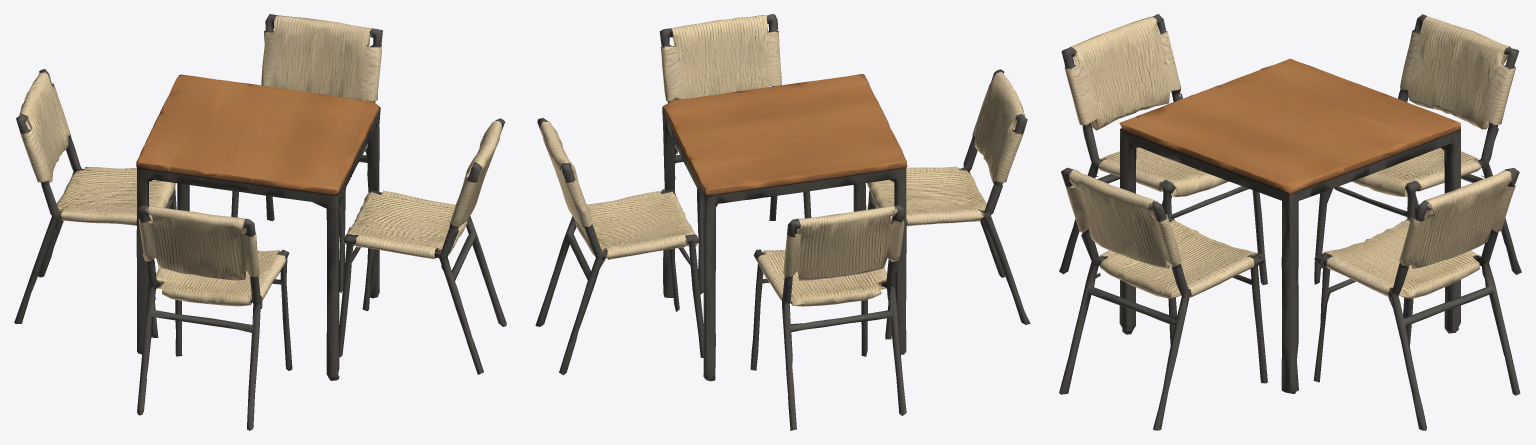
Rendered from dining-set.glb.
The picture shows the model from 3 angles, left to right: view 1: azimuth 30°, elevation 25°; view 2: azimuth 150°, elevation 25°; view 3: azimuth 270°, elevation 25°; orthographic projection. The views are drawn at different scales.
Parts seen in each view (by area): view 1: tripo_node_4e5e0ed5-7efd-4a0e-ad93-a70e4cceff74; view 2: tripo_node_4e5e0ed5-7efd-4a0e-ad93-a70e4cceff74; view 3: tripo_node_4e5e0ed5-7efd-4a0e-ad93-a70e4cceff74.
Part boxes in pixels (x1,y1,x2,y2): tripo_node_4e5e0ed5-7efd-4a0e-ad93-a70e4cceff74: (14, 14, 506, 430); tripo_node_4e5e0ed5-7efd-4a0e-ad93-a70e4cceff74: (535, 14, 1030, 430); tripo_node_4e5e0ed5-7efd-4a0e-ad93-a70e4cceff74: (1059, 14, 1521, 430).
Size of the model in its own units: 0.9986 by 0.5415 by 1.
Materials: 1 (1 with a texture image).
